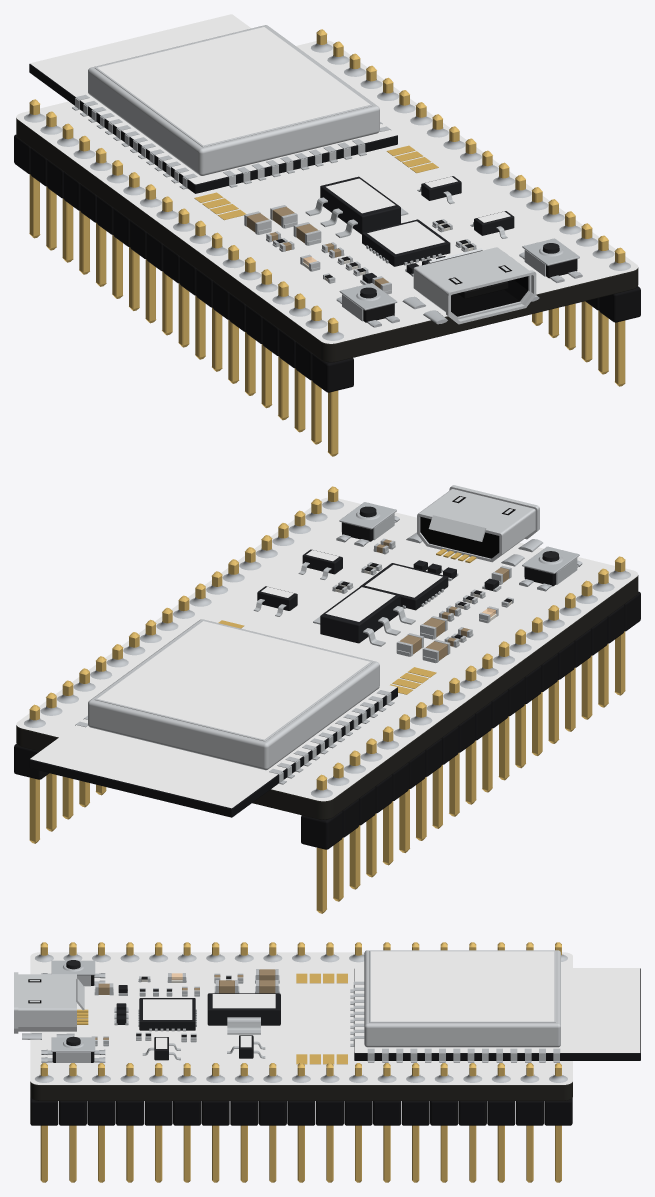
File: esp32-devkitc-v4.glb
3 renders of one model, top to bottom at view 1: azimuth 30°, elevation 25°; view 2: azimuth 150°, elevation 25°; view 3: azimuth 270°, elevation 25°, orthographic. The views are drawn at different scales.
Visible parts, largest first — view 1: pcb_top, header_pins, markings, header_housing, pcb, shield_can, module_top, solder_joints, usb_shell, ic_bodies, module_castellations, module_substrate (+7 smaller); view 2: pcb_top, header_pins, markings, module_top, header_housing, shield_can, pcb, solder_joints, usb_shell, ic_bodies, module_substrate, chip_terminations (+7 smaller); view 3: pcb_top, markings, header_housing, header_pins, pcb, module_top, shield_can, solder_joints, usb_shell, ic_bodies, module_castellations, switch_covers (+5 smaller).
Boxes of the visible parts, left/top/right/bottom form: pcb_top: left=16, top=40, right=638, bottom=343; header_pins: left=29, top=29, right=625, bottom=456; markings: left=97, top=27, right=510, bottom=253; header_housing: left=14, top=134, right=640, bottom=392; pcb: left=16, top=118, right=638, bottom=362; shield_can: left=88, top=25, right=379, bottom=175; module_top: left=30, top=14, right=396, bottom=184; solder_joints: left=24, top=42, right=630, bottom=340; usb_shell: left=413, top=247, right=536, bottom=324; ic_bodies: left=320, top=176, right=514, bottom=266; module_castellations: left=72, top=94, right=391, bottom=189; module_substrate: left=29, top=64, right=397, bottom=193; pcb_top: left=16, top=497, right=638, bottom=801; header_pins: left=29, top=486, right=625, bottom=913; markings: left=97, top=550, right=442, bottom=739; module_top: left=30, top=683, right=396, bottom=808; header_housing: left=14, top=591, right=640, bottom=849; shield_can: left=88, top=619, right=379, bottom=770; pcb: left=16, top=575, right=638, bottom=819; solder_joints: left=24, top=500, right=630, bottom=797; usb_shell: left=417, top=485, right=539, bottom=562; ic_bodies: left=257, top=549, right=448, bottom=643; module_substrate: left=29, top=687, right=397, bottom=817; chip_terminations: left=332, top=538, right=513, bottom=663; pcb_top: left=30, top=952, right=572, bottom=1084; markings: left=143, top=951, right=554, bottom=1048; header_housing: left=30, top=1097, right=572, bottom=1125; header_pins: left=40, top=942, right=561, bottom=1182; pcb: left=30, top=1081, right=572, bottom=1100; module_top: left=354, top=968, right=640, bottom=1052; shield_can: left=364, top=950, right=560, bottom=1047; solder_joints: left=35, top=954, right=567, bottom=1082; usb_shell: left=14, top=972, right=84, bottom=1033; ic_bodies: left=139, top=993, right=280, bottom=1060; module_castellations: left=350, top=981, right=560, bottom=1062; switch_covers: left=47, top=960, right=99, bottom=1062.
Bounding box in the file's own units: 27.94 × 13.27 × 55.76.
